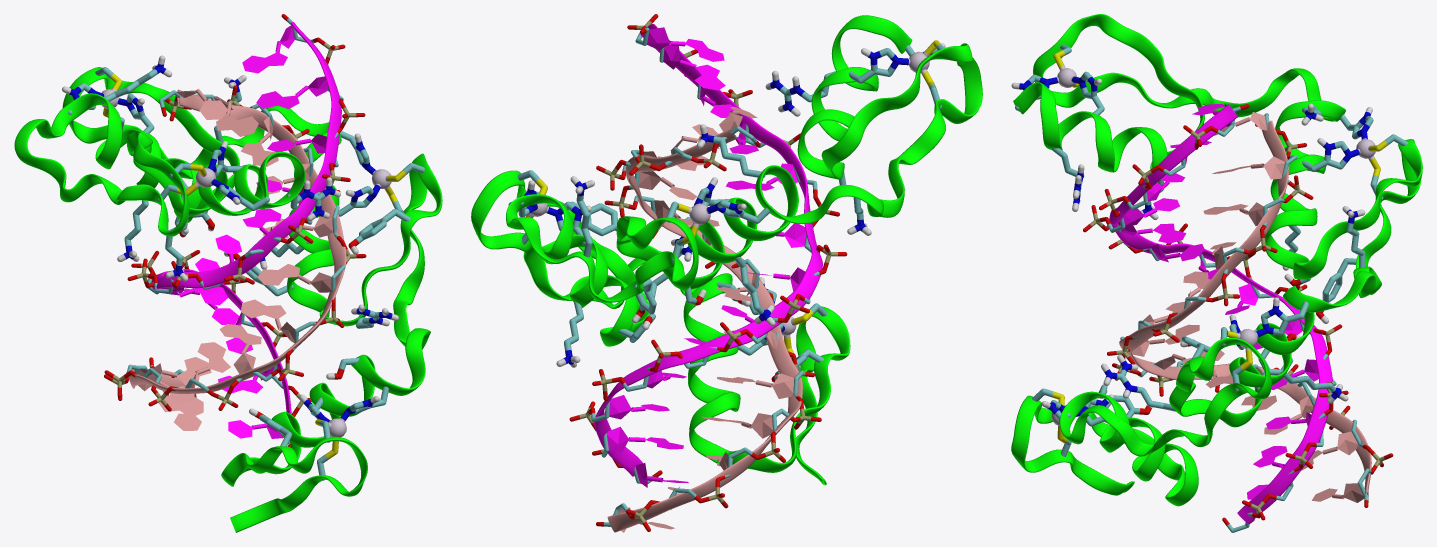
The model's file is zinc_finger_-_dna_nonspecific_binding.glb.
3 renders of one model, left to right at view 1: azimuth 30°, elevation 25°; view 2: azimuth 150°, elevation 25°; view 3: azimuth 270°, elevation 25°, orthographic. The views are drawn at different scales.
Visible parts, largest first — view 1: Object_3, Object_4, Object_2, Object_9, Object_8, Object_5, Object_13, Object_6, Object_15, Object_7, Object_10, Object_14 (+2 smaller); view 2: Object_3, Object_2, Object_4, Object_9, Object_8, Object_6, Object_5, Object_13, Object_7, Object_15, Object_10, Object_11 (+2 smaller); view 3: Object_3, Object_2, Object_4, Object_9, Object_8, Object_5, Object_7, Object_6, Object_13, Object_15, Object_11, Object_10 (+2 smaller).
Boxes of the visible parts, x1=… form: Object_3: x1=14, y1=67, x2=442, y2=532; Object_4: x1=128, y1=89, x2=346, y2=430; Object_2: x1=151, y1=22, x2=341, y2=438; Object_9: x1=101, y1=69, x2=410, y2=450; Object_8: x1=68, y1=67, x2=424, y2=480; Object_5: x1=69, y1=63, x2=392, y2=422; Object_13: x1=112, y1=42, x2=356, y2=408; Object_6: x1=104, y1=85, x2=366, y2=418; Object_15: x1=62, y1=55, x2=398, y2=416; Object_7: x1=127, y1=14, x2=365, y2=447; Object_10: x1=127, y1=90, x2=345, y2=391; Object_14: x1=101, y1=88, x2=391, y2=437; Object_3: x1=471, y1=15, x2=982, y2=485; Object_2: x1=594, y1=24, x2=822, y2=487; Object_4: x1=607, y1=107, x2=802, y2=532; Object_9: x1=564, y1=71, x2=863, y2=374; Object_8: x1=508, y1=44, x2=943, y2=371; Object_6: x1=596, y1=140, x2=821, y2=531; Object_5: x1=524, y1=51, x2=932, y2=364; Object_13: x1=579, y1=20, x2=837, y2=523; Object_7: x1=569, y1=14, x2=847, y2=477; Object_15: x1=528, y1=43, x2=945, y2=380; Object_10: x1=603, y1=126, x2=804, y2=526; Object_11: x1=591, y1=27, x2=819, y2=483; Object_3: x1=1011, y1=14, x2=1422, y2=506; Object_2: x1=1109, y1=103, x2=1332, y2=523; Object_4: x1=1119, y1=112, x2=1371, y2=502; Object_9: x1=1051, y1=106, x2=1365, y2=417; Object_8: x1=1015, y1=44, x2=1408, y2=456; Object_5: x1=1019, y1=76, x2=1370, y2=416; Object_7: x1=1083, y1=104, x2=1348, y2=525; Object_6: x1=1099, y1=124, x2=1393, y2=507; Object_13: x1=1090, y1=130, x2=1385, y2=514; Object_15: x1=1011, y1=78, x2=1372, y2=408; Object_11: x1=1107, y1=106, x2=1336, y2=532; Object_10: x1=1120, y1=113, x2=1371, y2=501.
Size of the model in its own units: 2.51 by 2.69 by 2.28.
